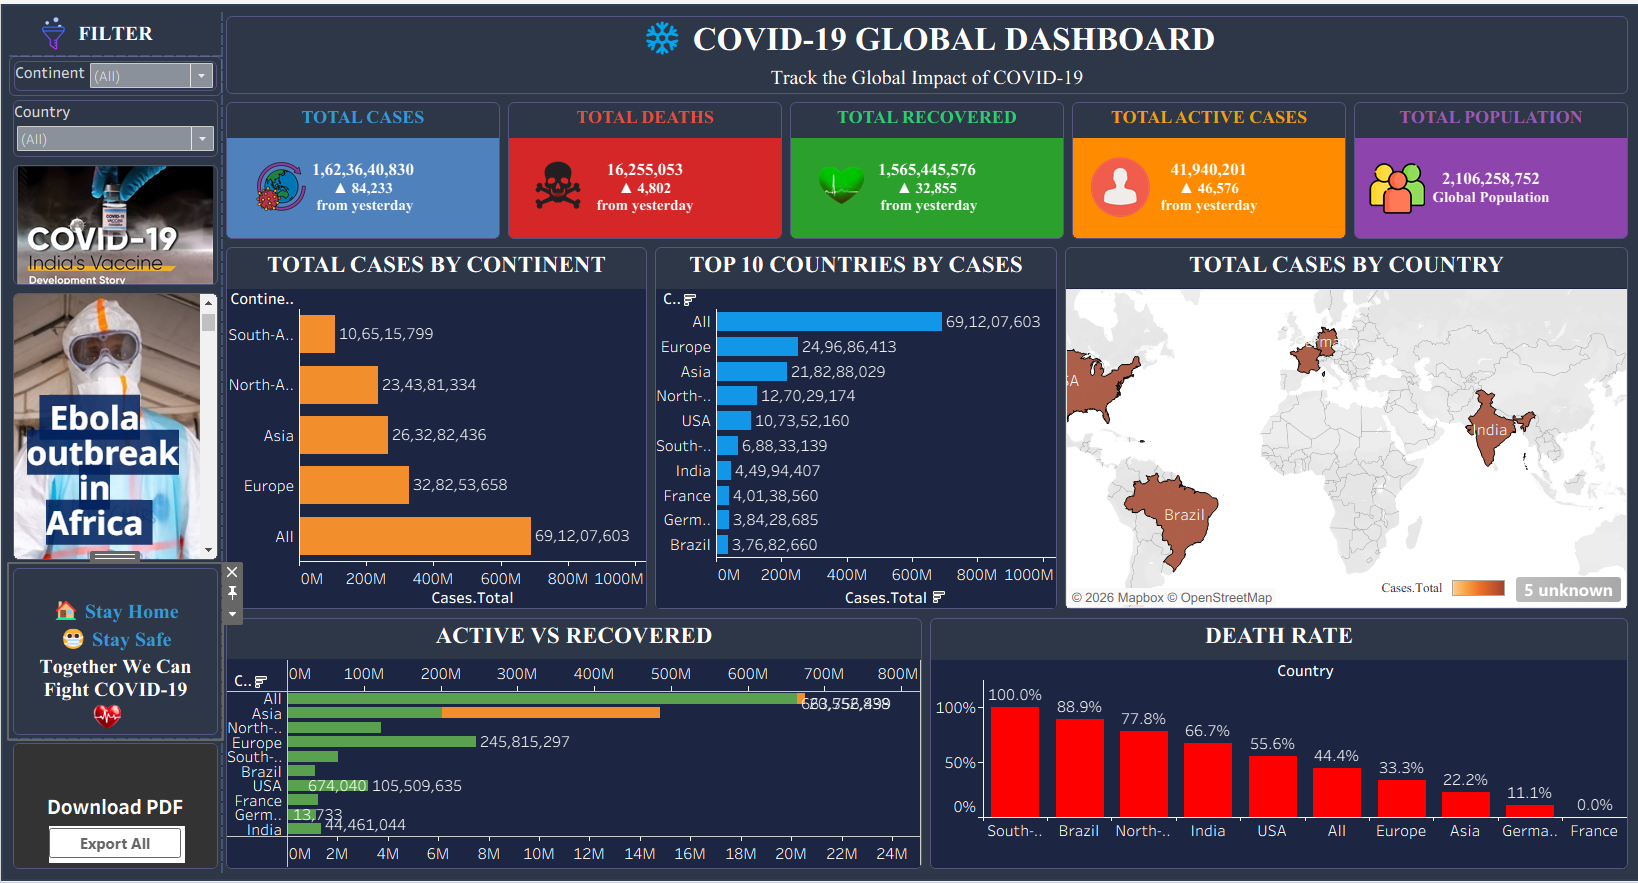

The page's visual inventory and layout, read from the dashboard file:
{"tool":"tableau","page":{"name":"COVID-19 GLOBAL DASHBOARD ","canvas":[1000,1000],"units":"permille","ordinal":0},"visuals":[{"type":"text","box":[4.9,9.1,130.2,50.3]},{"type":"title","box":[135,9.1,860.1,98.1]},{"type":"image","param":"C:/Users/falguni khot/Downloads/tableau/filter-removebg-preview.png","box":[17.7,10.3,28.1,45.6]},{"type":"filter","title":"Total Cases by Continent","param":"[federated.0vysnw10vdjzsz12do1860gzaay5].[none:Continent:nk]","box":[5.5,60.5,128.9,42.8]},{"type":"filter","title":"Top 10 Countries by Cases","param":"[federated.0vysnw10vdjzsz12do1860gzaay5].[none:Country:nk]","box":[4.9,104.5,130.2,74.1]},{"type":"worksheet","title":" Total Cases","mark":"Automatic","box":[135,107.2,172,165.6]},{"type":"worksheet","title":" Total Deaths","mark":"Automatic","box":[307.1,107.2,172,165.6]},{"type":"worksheet","title":"Total Recovered","mark":"Automatic","box":[479.1,107.2,172,165.6]},{"type":"worksheet","title":"Total Active Cases","mark":"Automatic","box":[651.1,107.2,172,165.6]},{"type":"worksheet","title":" Total Population","mark":"Automatic","box":[823.1,107.2,172,165.6]},{"type":"image","param":"C:/Users/falguni khot/Downloads/tableau/active-removebg-preview.png","box":[662.6,169.9,40.3,75.3]},{"type":"image","param":"C:/Users/falguni khot/Downloads/tableau/covid-19-logo-removebg-preview.png","box":[155,174.5,31.7,66.1]},{"type":"image","param":"C:/Users/falguni khot/Downloads/tableau/skull-removebg-preview (1).png","box":[321.5,174.5,38.4,63.9]},{"type":"image","param":"C:/Users/falguni khot/Downloads/tableau/heart-removebg-preview.png","box":[492.4,174.5,40.3,63.9]},{"type":"image","param":"C:/Users/falguni khot/Downloads/tableau/people-removebg-preview.png","box":[834.1,177.9,35.4,63.9]},{"type":"image","param":"C:/Users/falguni khot/Downloads/tableau/vacsin.jpg","box":[4.9,178.6,130.2,146.3]},{"type":"worksheet","title":"Total Cases by Continent","mark":"Bar","rows":["Continent"],"cols":["Cases.Total"],"box":[135,272.8,261.7,422.2]},{"type":"worksheet","title":"Top 10 Countries by Cases","mark":"Bar","rows":["Country"],"cols":["Cases.Total"],"box":[396.8,272.8,250.2,422.2]},{"type":"worksheet","title":"cuntry","mark":"Multipolygon","box":[646.9,272.8,348.2,422.2]},{"type":"web page","param":"https://www.who.int/news/item/30-03-2026-types-of-data-requested-to-inform-may-2","box":[4.9,324.9,130.2,313.6]},{"type":"text","box":[4.9,638.5,130.2,199.5]},{"type":"legend","title":"cuntry","param":"[federated.0vysnw10vdjzsz12do1860gzaay5].[sum:Cases.Total:qk]","box":[838.9,652.2,81.2,29.7]},{"type":"worksheet","title":"Active vs Recovered","mark":"Bar","rows":["Country"],"cols":["Cases.Active","Cases.Recovered"],"box":[135,695.1,429.4,295.8]},{"type":"worksheet","title":"Death Rate","mark":"Automatic","cols":["Country"],"box":[564.5,695.1,430.6,295.8]},{"type":"image","param":"C:/Users/falguni khot/Downloads/tableau/heartbeat-removebg-preview.png","box":[51.9,793.6,25.6,37.6]},{"type":"dashboard-object","box":[4.9,838,130.2,152.8]},{"type":"dashboard-object","param":"[com.theinformationlab.extensions.exportall].[1.0.0].[https://exportallextension","box":[29.3,937.3,83,42.2]}]}

Visuals, with their boxes on the dashboard's canvas, which has no fixed pixel size, in thousandths of its width and height (x1, y1, x2, y2). These are canvas units, not pixel positions in the 1638x883 screenshot, which may show the page scaled, cropped or inside an application window:
text: 5 9 135 59
title: 135 9 995 107
image: 18 10 46 56
"Total Cases by Continent" filter: 6 60 134 103
"Top 10 Countries by Cases" filter: 5 104 135 179
" Total Cases" worksheet: 135 107 307 273
" Total Deaths" worksheet: 307 107 479 273
"Total Recovered" worksheet: 479 107 651 273
"Total Active Cases" worksheet: 651 107 823 273
" Total Population" worksheet: 823 107 995 273
image: 663 170 703 245
image: 155 174 187 241
image: 322 174 360 238
image: 492 174 533 238
image: 834 178 870 242
image: 5 179 135 325
"Total Cases by Continent" worksheet (Bar marks): 135 273 397 695
"Top 10 Countries by Cases" worksheet (Bar marks): 397 273 647 695
"cuntry" worksheet (Multipolygon marks): 647 273 995 695
web page: 5 325 135 638
text: 5 638 135 838
"cuntry" legend: 839 652 920 682
"Active vs Recovered" worksheet (Bar marks): 135 695 564 991
"Death Rate" worksheet: 564 695 995 991
image: 52 794 78 831
dashboard-object: 5 838 135 991
dashboard-object: 29 937 112 980
